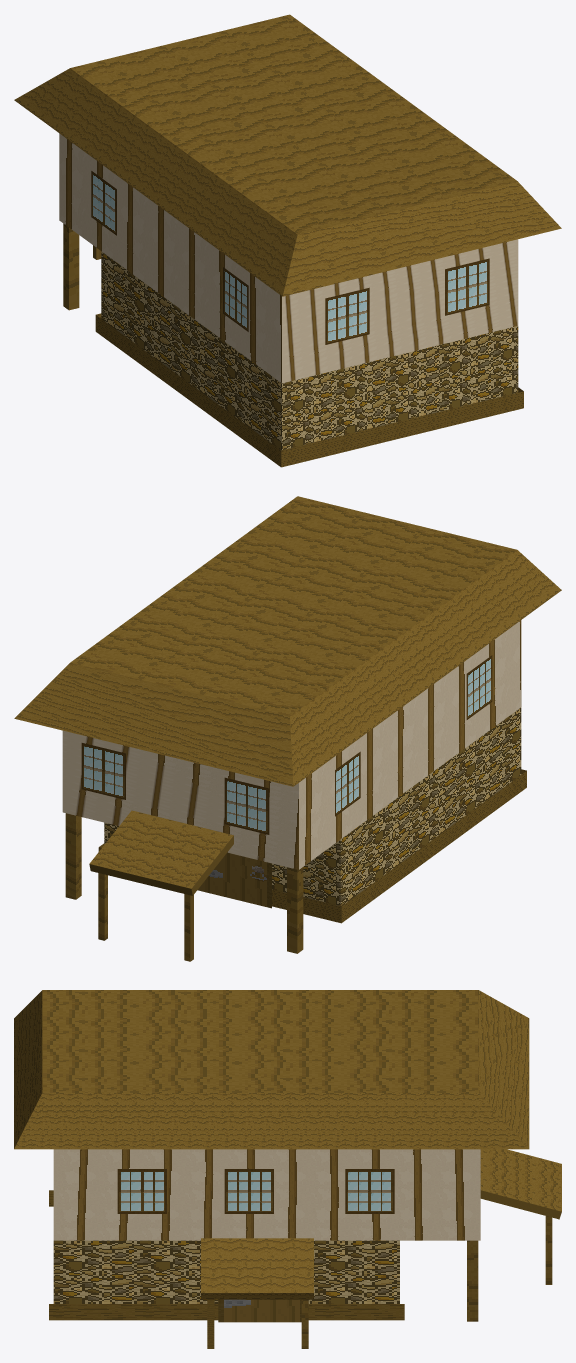
File: land_porthouse.fbx
The picture shows the model from 3 angles, top to bottom: view 1: azimuth 30°, elevation 25°; view 2: azimuth 150°, elevation 25°; view 3: azimuth 270°, elevation 25°; orthographic projection. The views are drawn at different scales.
Parts seen in each view (by area): view 1: Plane; view 2: Plane; view 3: Plane.
Part boxes in pixels (box(x1,y1,x2,y2)): Plane: box(14, 14, 561, 467); Plane: box(14, 496, 561, 961); Plane: box(14, 990, 561, 1348).
Size of the model in its own units: 641 by 441 by 968.
Materials: 5 (5 with a texture image).
